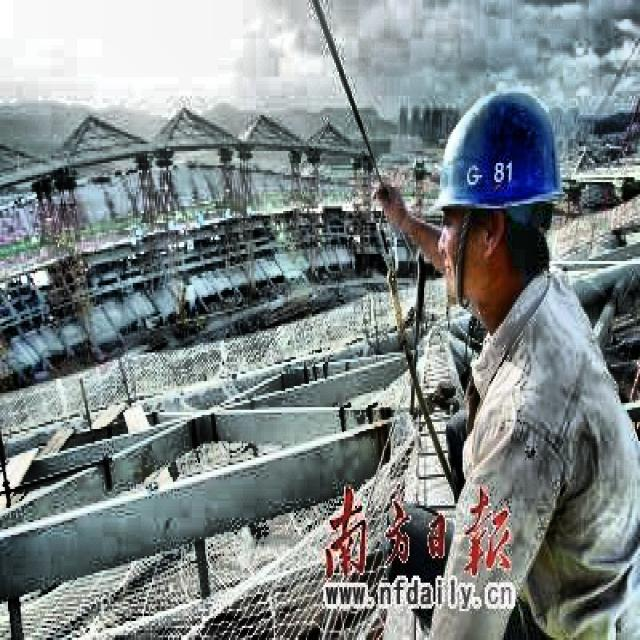helmet: (424, 62, 573, 328)
